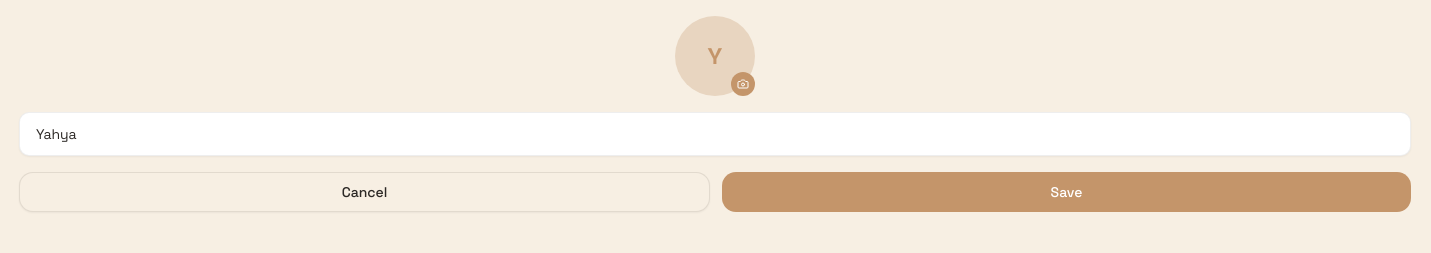
ProfileEditForm › shows validation error for empty name
Clear the field showing "Yahya" at (715, 134), box [19,112,1411,156]
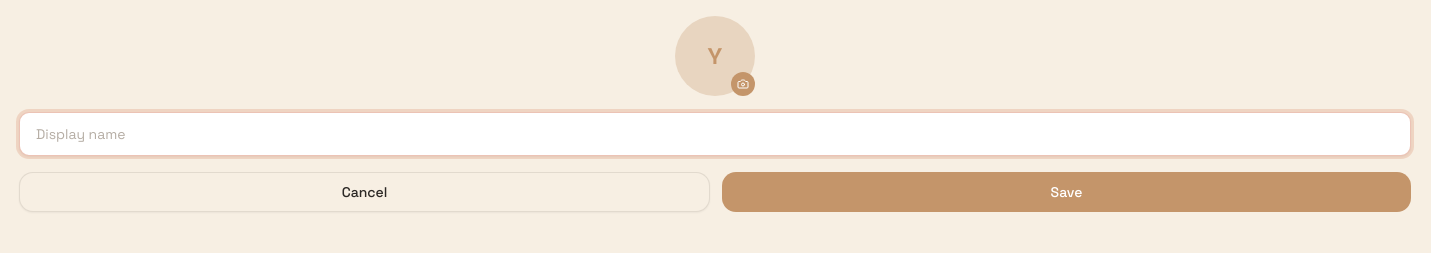
Click the button "Save" at (1066, 192), box [722,172,1411,212]
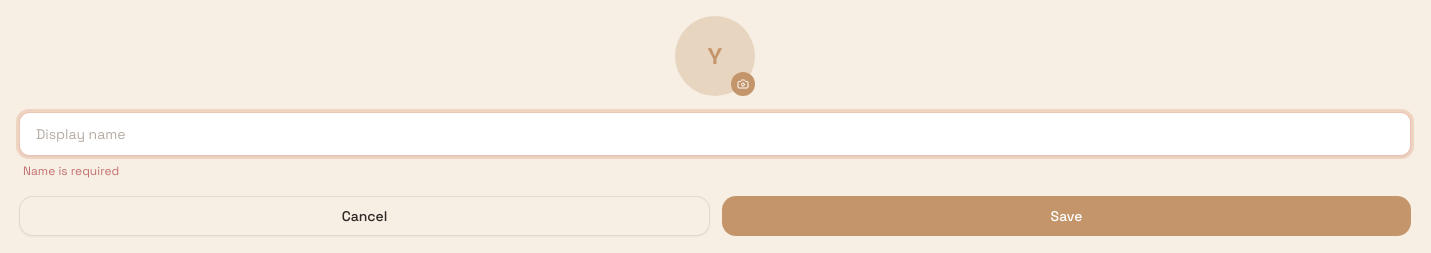
Expected: the text "Name is required" is shown, [23,163,119,179]
